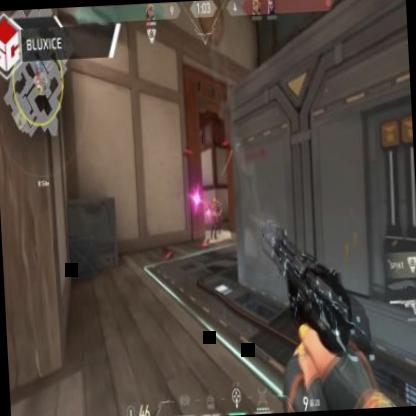enemy: (210, 193, 218, 236), (215, 198, 223, 234)
enemy_head: (212, 195, 215, 203), (216, 198, 219, 206)
